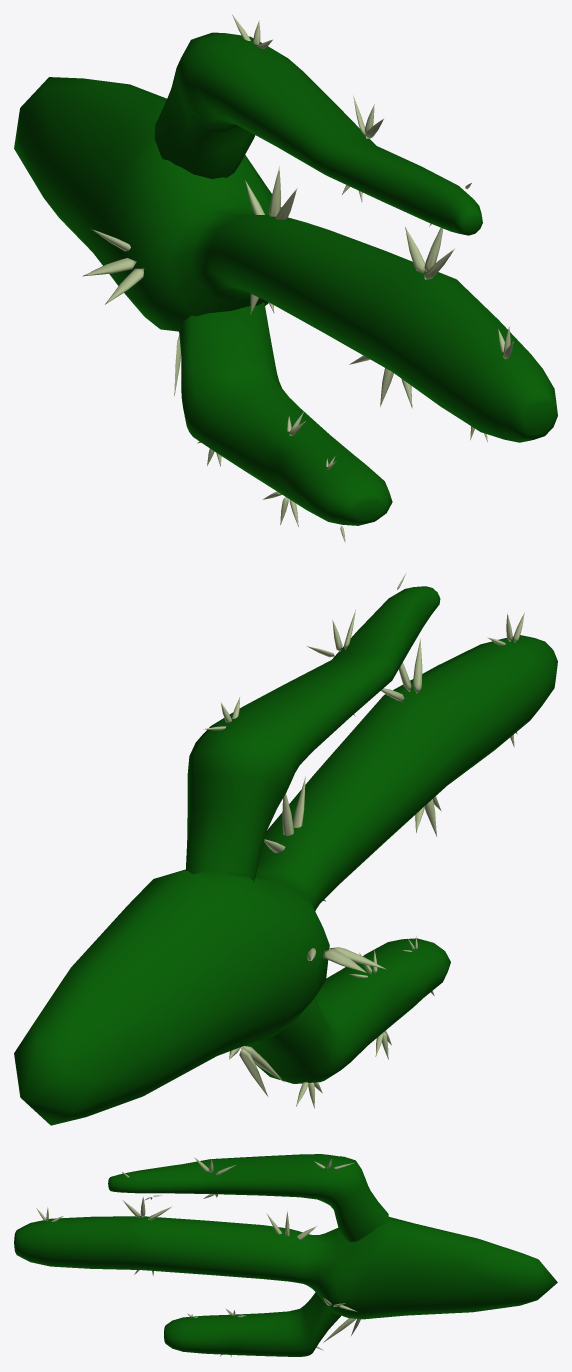
File: cac2.obj
The picture shows the model from 3 angles, top to bottom: view 1: azimuth 30°, elevation 25°; view 2: azimuth 150°, elevation 25°; view 3: azimuth 270°, elevation 25°; orthographic projection. The views are drawn at different scales.
Parts seen in each view (by area): view 1: Cone.003; view 2: Cone.003; view 3: Cone.003.
Boxes of the visible parts, box(x1,y1,x2,y2) form: Cone.003: box(14, 15, 557, 542); Cone.003: box(14, 574, 557, 1125); Cone.003: box(14, 1154, 557, 1357).
Size of the model in its own units: 0.1823 by 0.3177 by 0.7157.
